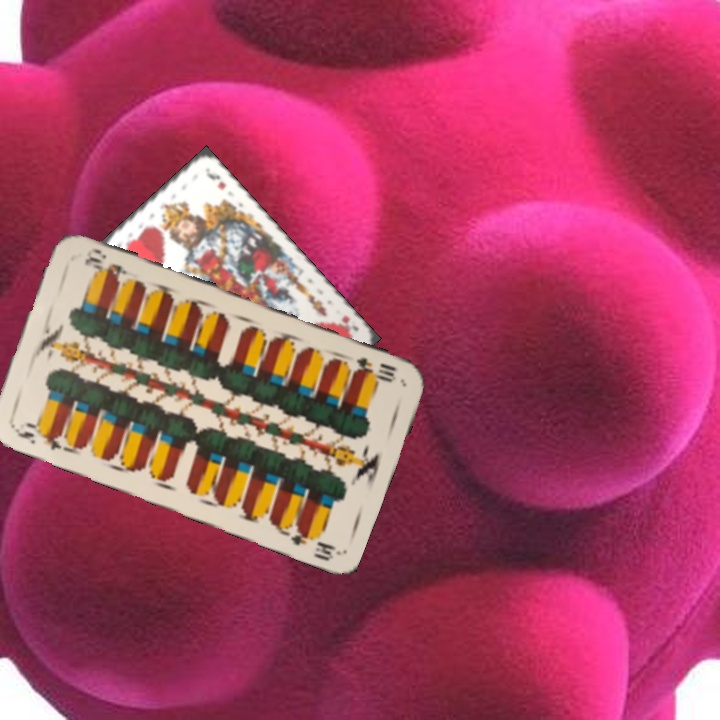E10: (9, 418, 65, 453), (350, 353, 400, 385)
HK: (336, 312, 361, 340)
